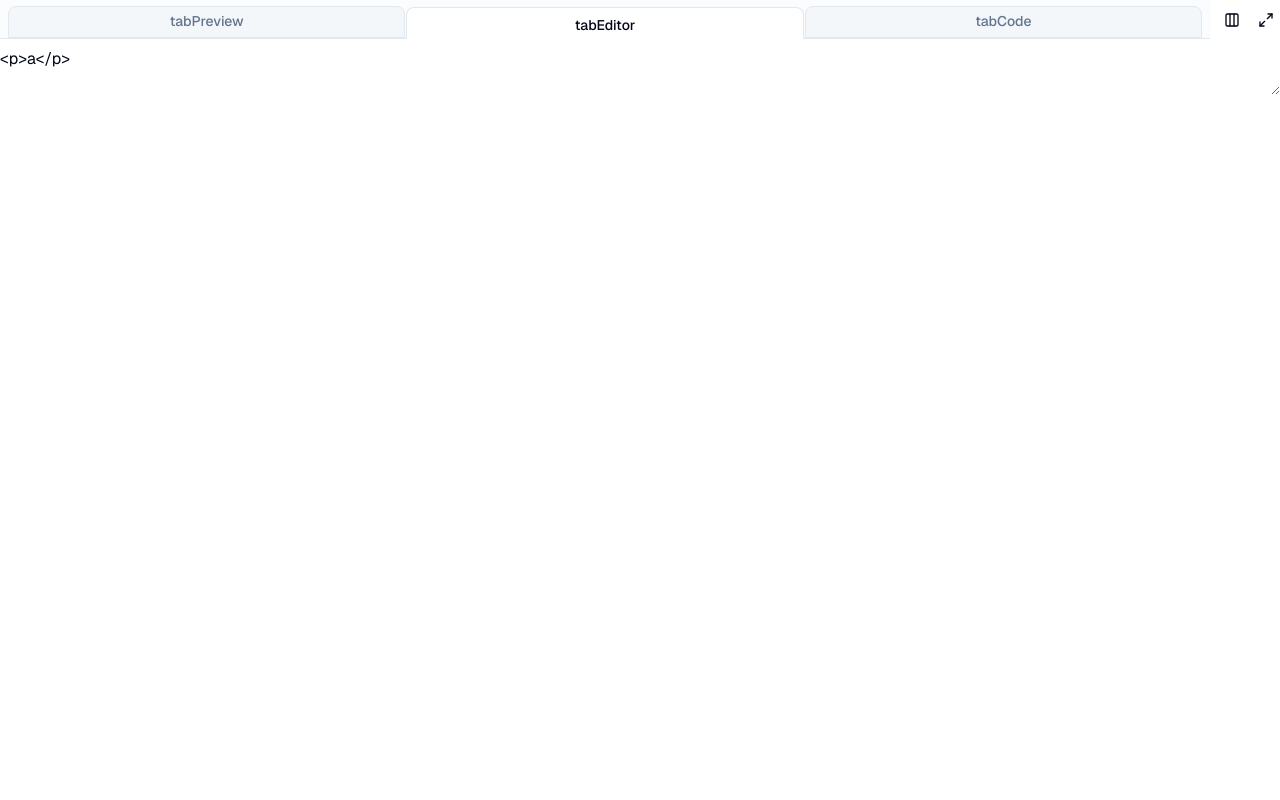
HtmlContentEditor › alterna para tela cheia e trava/restaura o scroll do body
What coordinates should you click on to do the following:
click the button named "enterFullscreen"
I would click on:
 (1266, 20)
Its box is top-left (1252, 6), bottom-right (1279, 34).
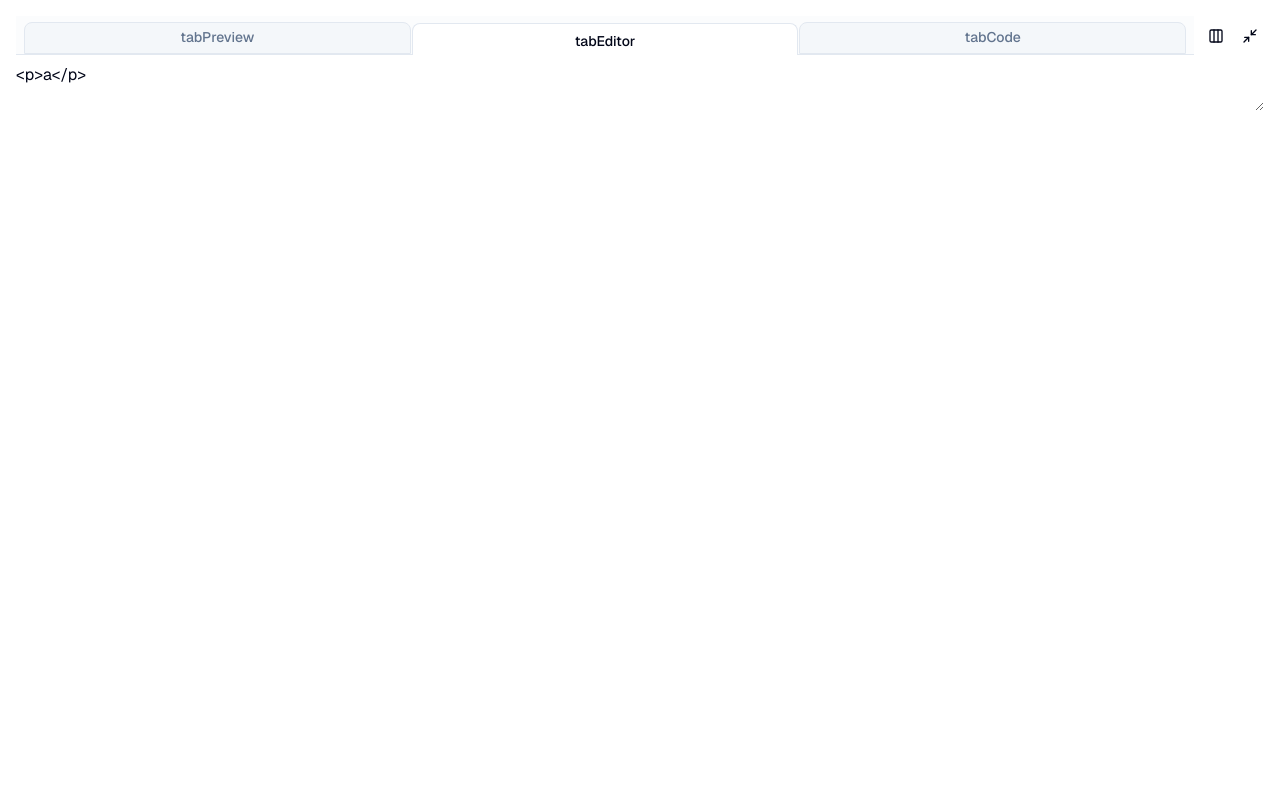
Expected: the button named "exitFullscreen" is shown
What coordinates should you click on to do the following:
click the button named "exitFullscreen"
I would click on:
 (1250, 36)
Its box is top-left (1236, 22), bottom-right (1264, 50).
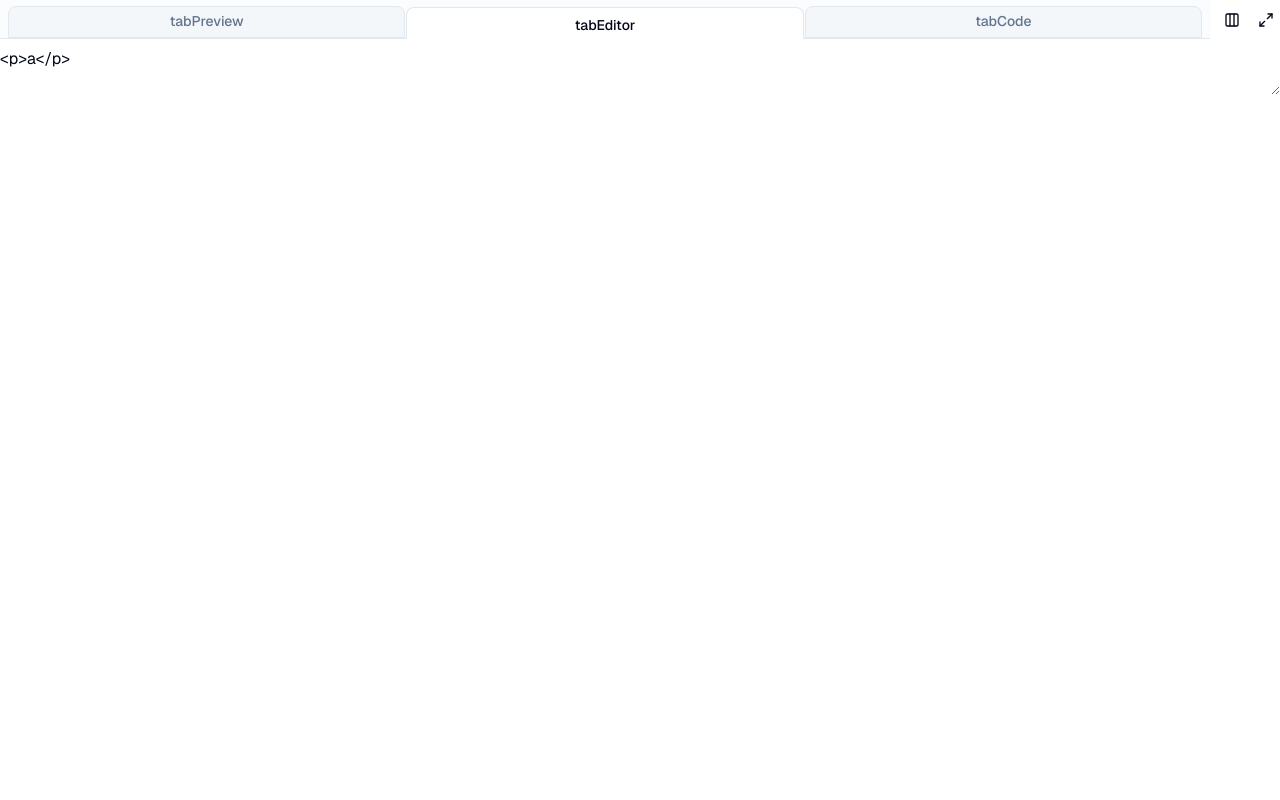
Expected: the button named "enterFullscreen" is shown, top-left (1252, 6), bottom-right (1279, 34)
